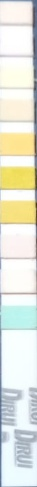color 1: (1, 4, 32, 22)
color 10: (2, 307, 35, 328)
color 2: (1, 37, 32, 53)
color 3: (2, 68, 32, 86)
color 4: (1, 100, 33, 119)
color 5: (1, 135, 33, 154)
color 6: (1, 169, 34, 186)
color 7: (1, 202, 34, 221)
color 8: (2, 235, 35, 255)
color 9: (1, 271, 35, 291)
